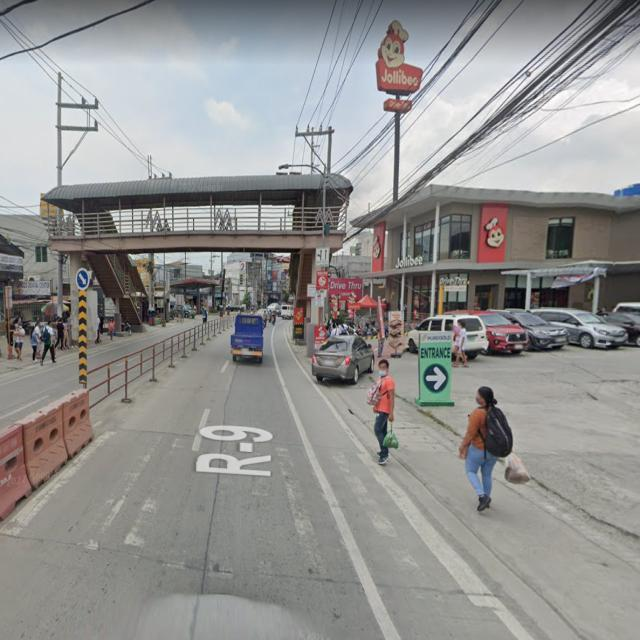keep right: (76, 266, 92, 293)
